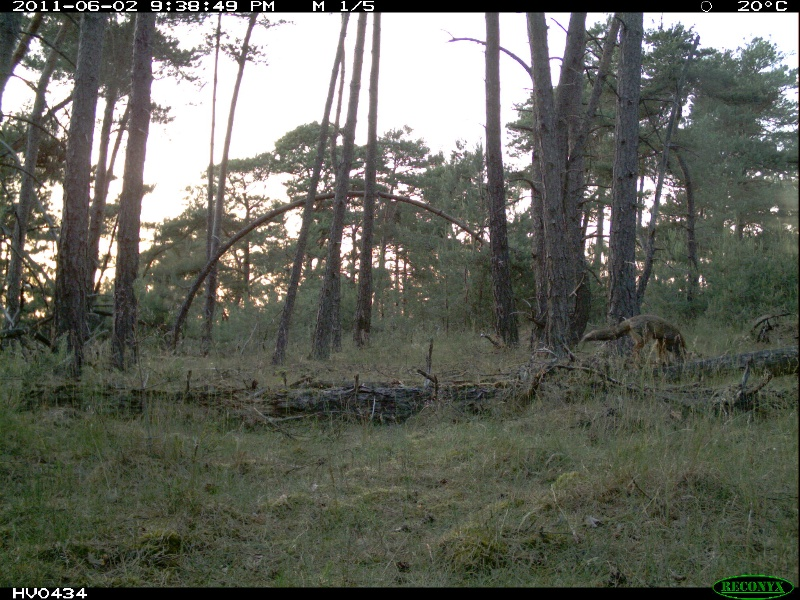fox: (580, 314, 693, 370)
